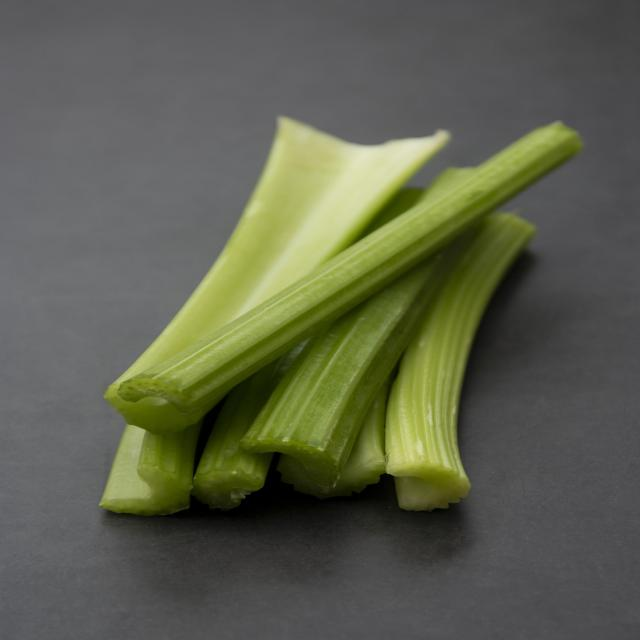Celery stalk: (66, 108, 594, 520)
